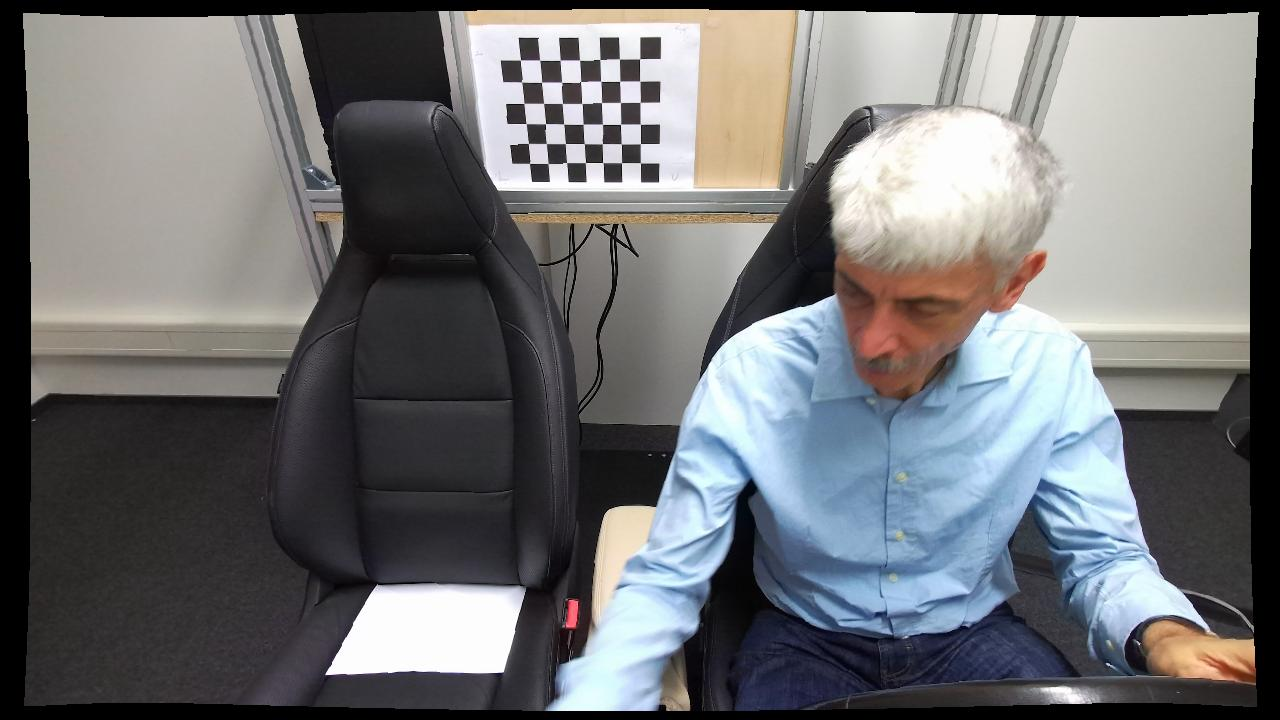Distracted: (538, 104, 1134, 715)
